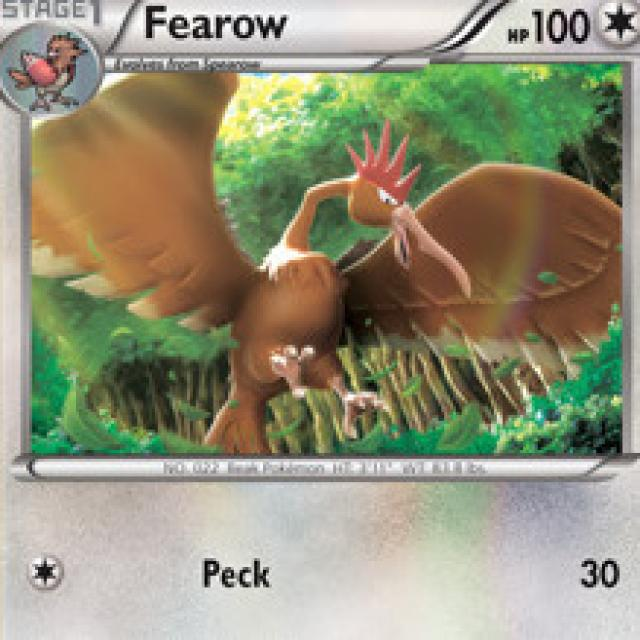Fearow: (138, 133, 486, 420)
